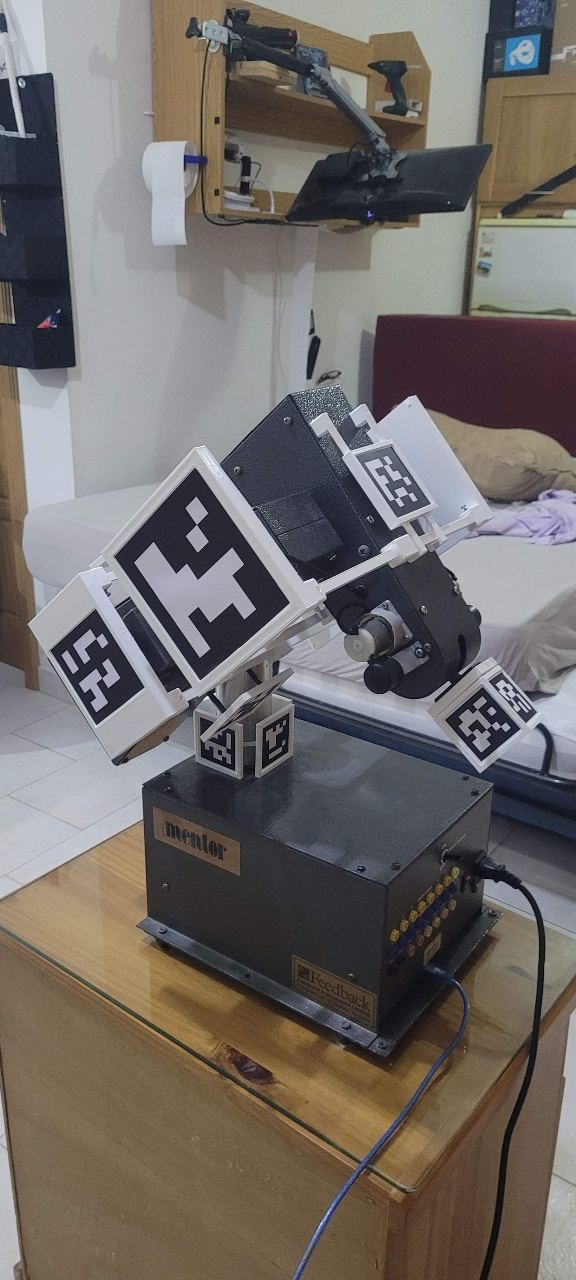Robot: (25, 384, 548, 784)
